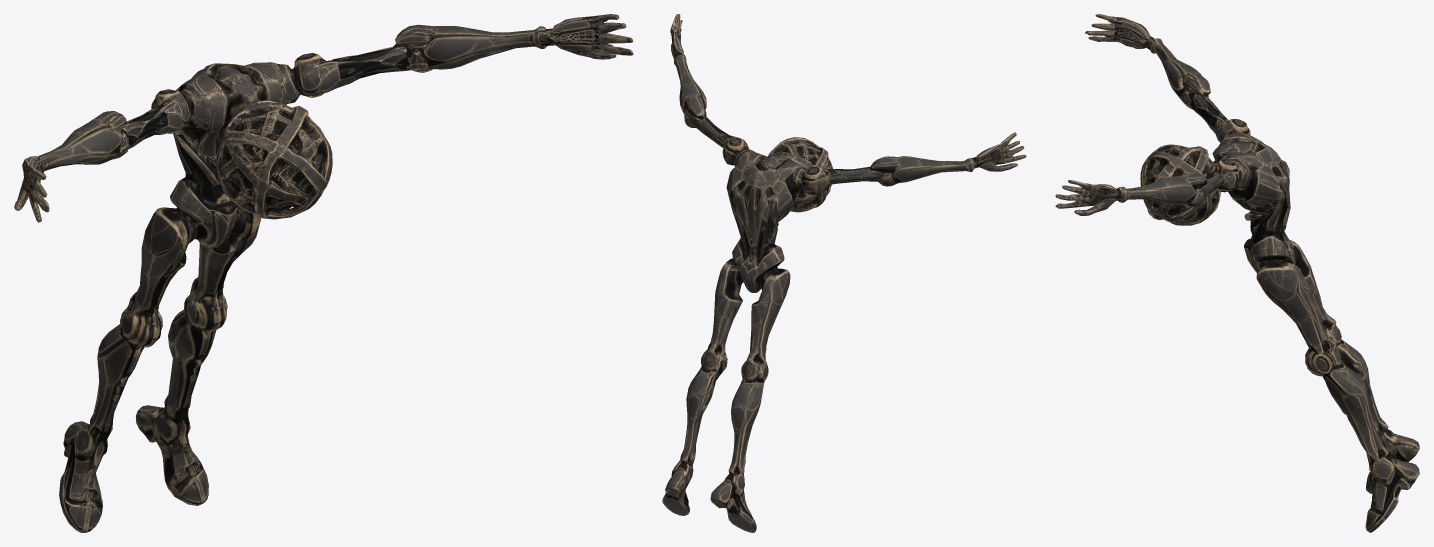
The model's file is Mascot_Manny_bend_preview.glb.
The picture shows the model from 3 angles, left to right: view 1: azimuth 30°, elevation 25°; view 2: azimuth 150°, elevation 25°; view 3: azimuth 270°, elevation 25°; orthographic projection. The views are drawn at different scales.
Parts seen in each view (by area): view 1: Mesh_0; view 2: Mesh_0; view 3: Mesh_0.
Boxes of the visible parts, x1,y1,x2,y2 form: Mesh_0: [14, 14, 633, 532]; Mesh_0: [662, 14, 1026, 532]; Mesh_0: [1055, 14, 1419, 532].
Bounding box in the file's own units: 1.48 × 1.45 × 1.12.
Materials: 1 (1 with a texture image).
